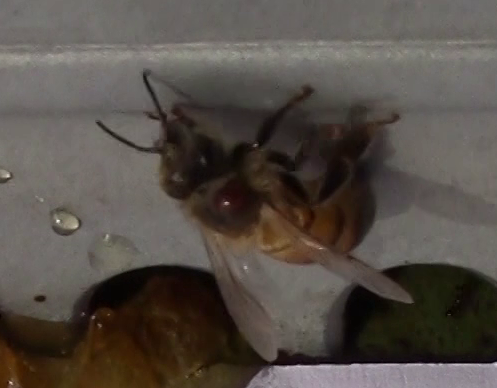Varroa destructor: (209, 182, 253, 221)
